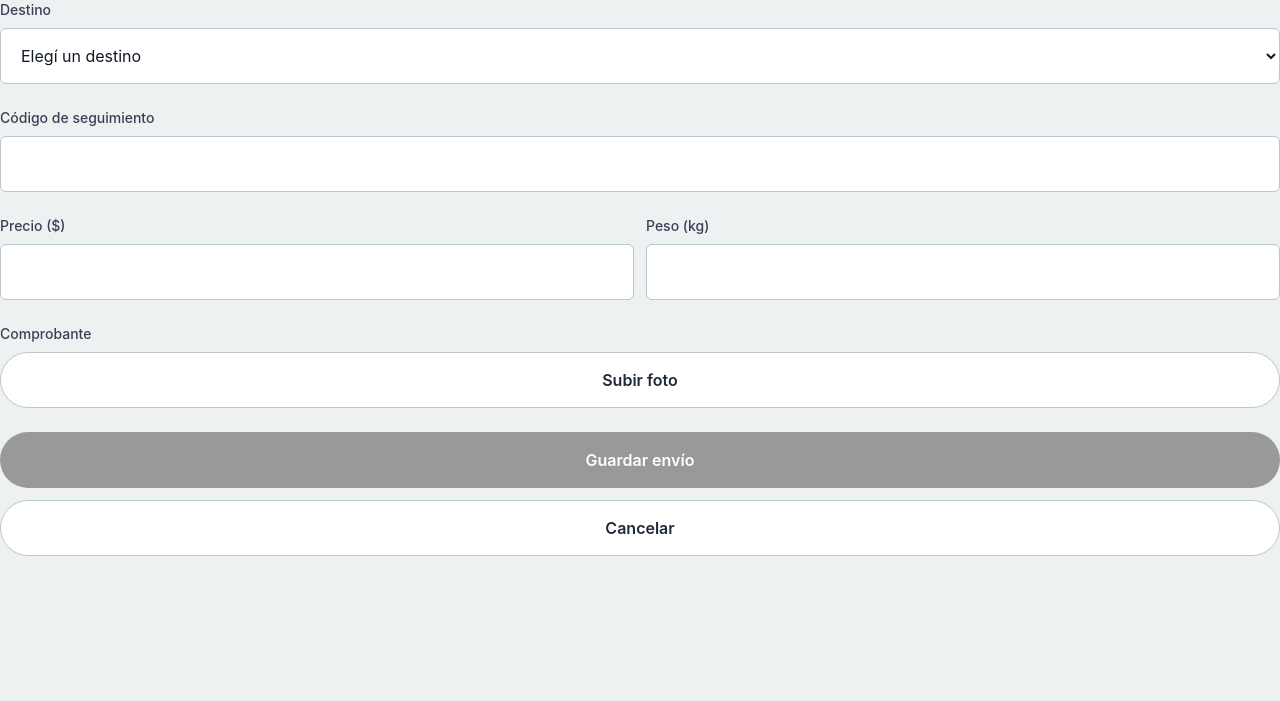
Test: TrackingEditor › offers only the unshipped closed boxes of the chosen destination
Select "AMBA" in the dropdown labelled "Destino" at (640, 56), box [0,28,1279,84]
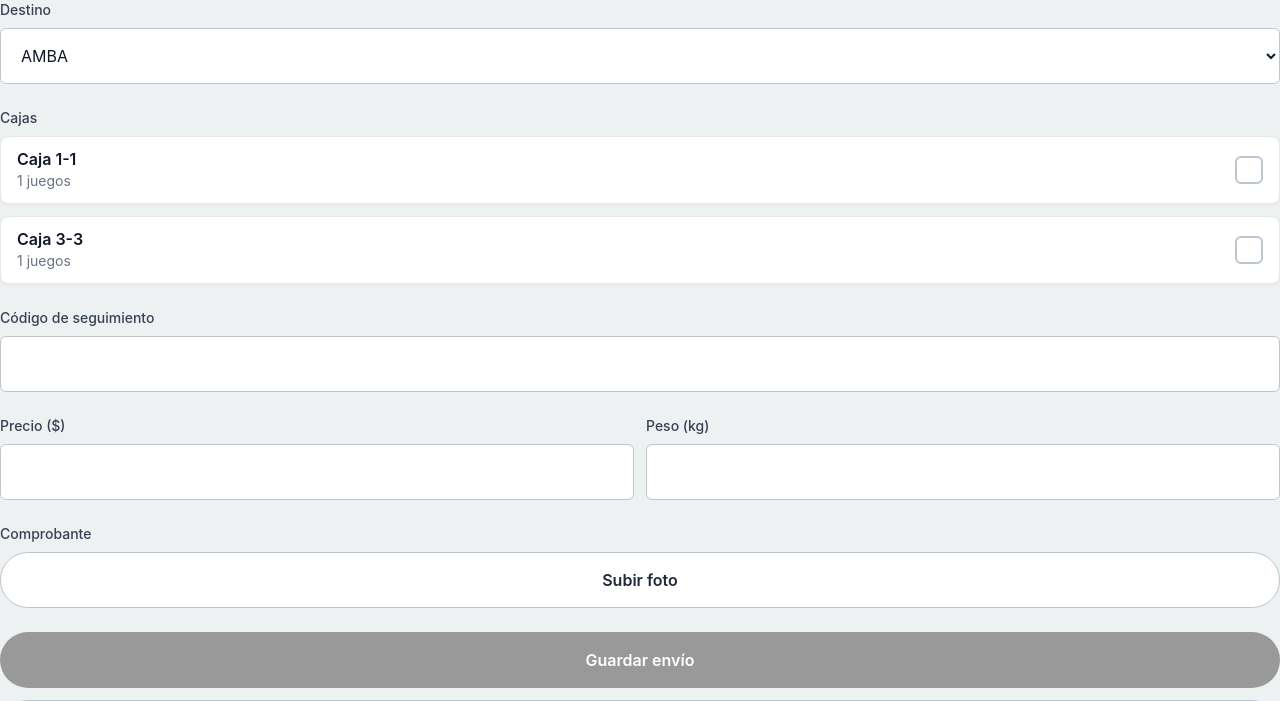
Expected: the checkbox labelled "Caja 1-1 1 juegos" is shown, [0,136,1279,204]
Expected: the checkbox labelled "Caja 3-3 1 juegos" is shown, [0,216,1279,284]
